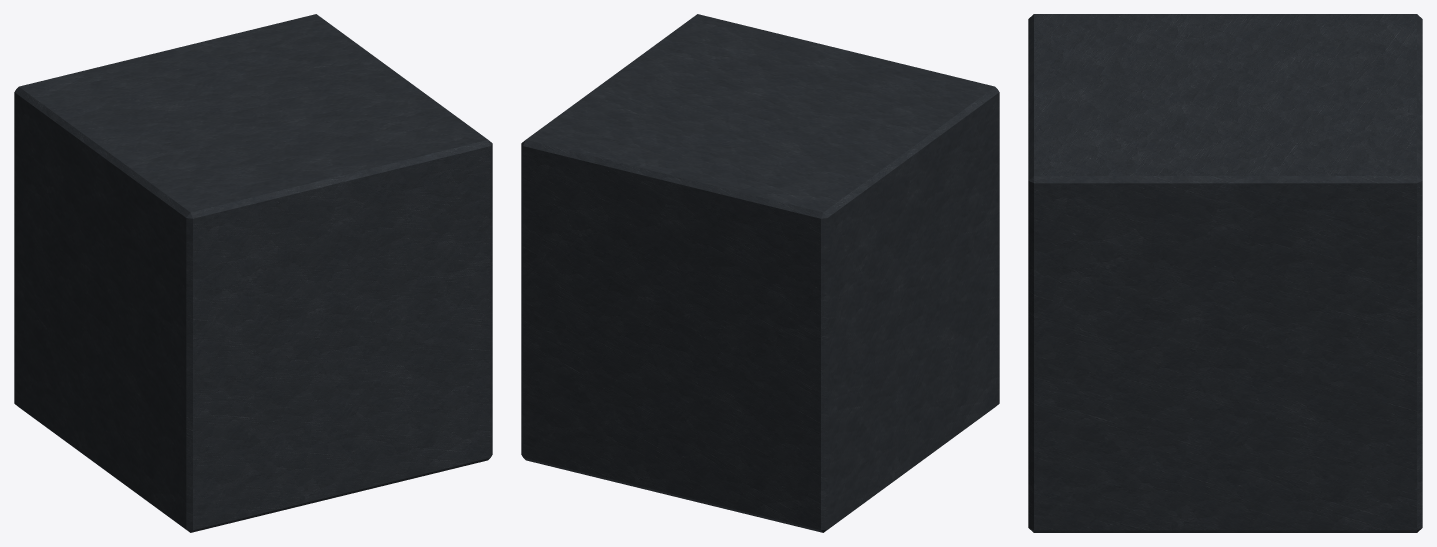
The model's file is train_black_iron_block.gltf.
3 views of the same model, side by side, from view 1: azimuth 30°, elevation 25°; view 2: azimuth 150°, elevation 25°; view 3: azimuth 270°, elevation 25° (orthographic). The views are drawn at different scales.
Bounding box in the file's own units: 1 × 1 × 1.
2 materials, 2 textured.
